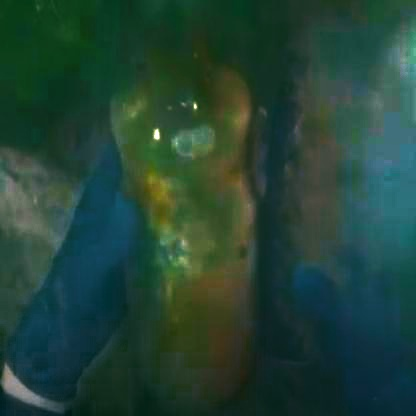gbottle: (120, 46, 270, 411)
